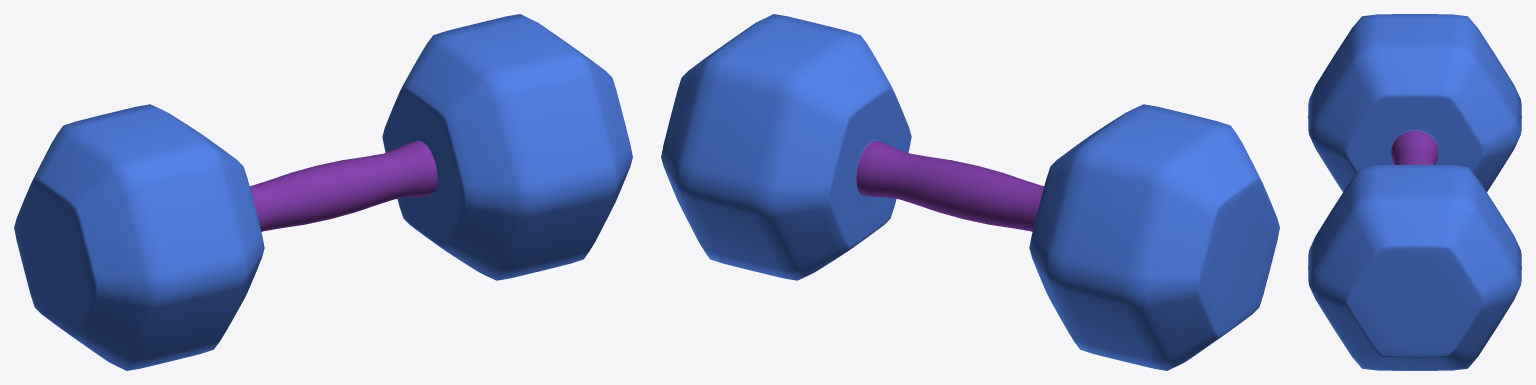
The model's file is dumbell.glb.
3 views of the same model, side by side, from view 1: azimuth 30°, elevation 25°; view 2: azimuth 150°, elevation 25°; view 3: azimuth 270°, elevation 25° (orthographic). The views are drawn at different scales.
Visible parts, largest first — view 1: 10499_Dumbells_v1_L3; view 2: 10499_Dumbells_v1_L3; view 3: 10499_Dumbells_v1_L3.
Part boxes in pixels (<box>): 10499_Dumbells_v1_L3: <box>14,14,632,370</box>; 10499_Dumbells_v1_L3: <box>661,14,1279,370</box>; 10499_Dumbells_v1_L3: <box>1308,14,1521,370</box>.
Bounding box in the file's own units: 8.6 × 3.15 × 3.54.
